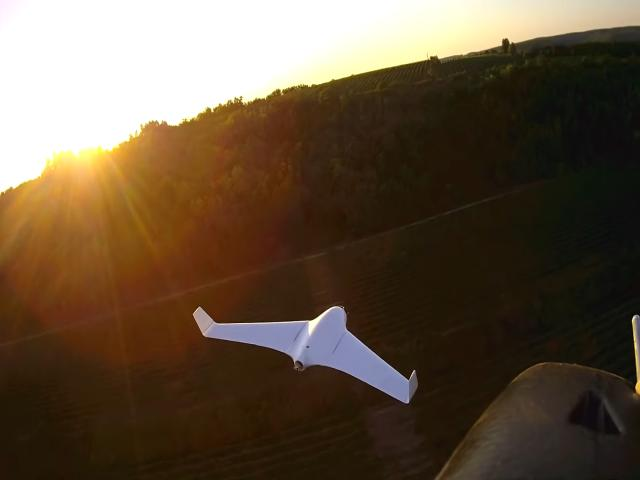plane: (192, 305, 418, 405)
